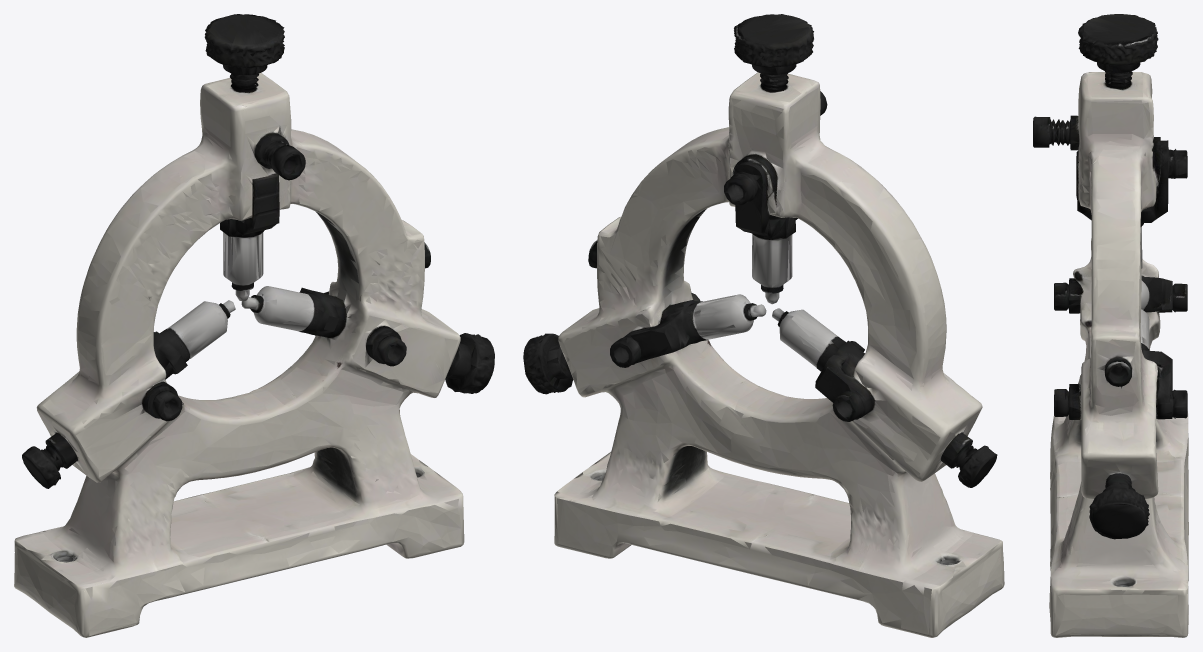
File: tool_732.obj
3 renders of one model, left to right at view 1: azimuth 30°, elevation 25°; view 2: azimuth 150°, elevation 25°; view 3: azimuth 270°, elevation 25°, orthographic. The views are drawn at different scales.
Visible parts, largest first — view 1: tool_732_tripo_normalized; view 2: tool_732_tripo_normalized; view 3: tool_732_tripo_normalized.
Part boxes in pixels (left/top/right/bottom): tool_732_tripo_normalized: left=14, top=14, right=494, bottom=637; tool_732_tripo_normalized: left=523, top=14, right=1004, bottom=637; tool_732_tripo_normalized: left=1033, top=14, right=1188, bottom=637.
Size of the model in its own units: 61.63 by 68.49 by 18.5.
1 material, 1 textured.
